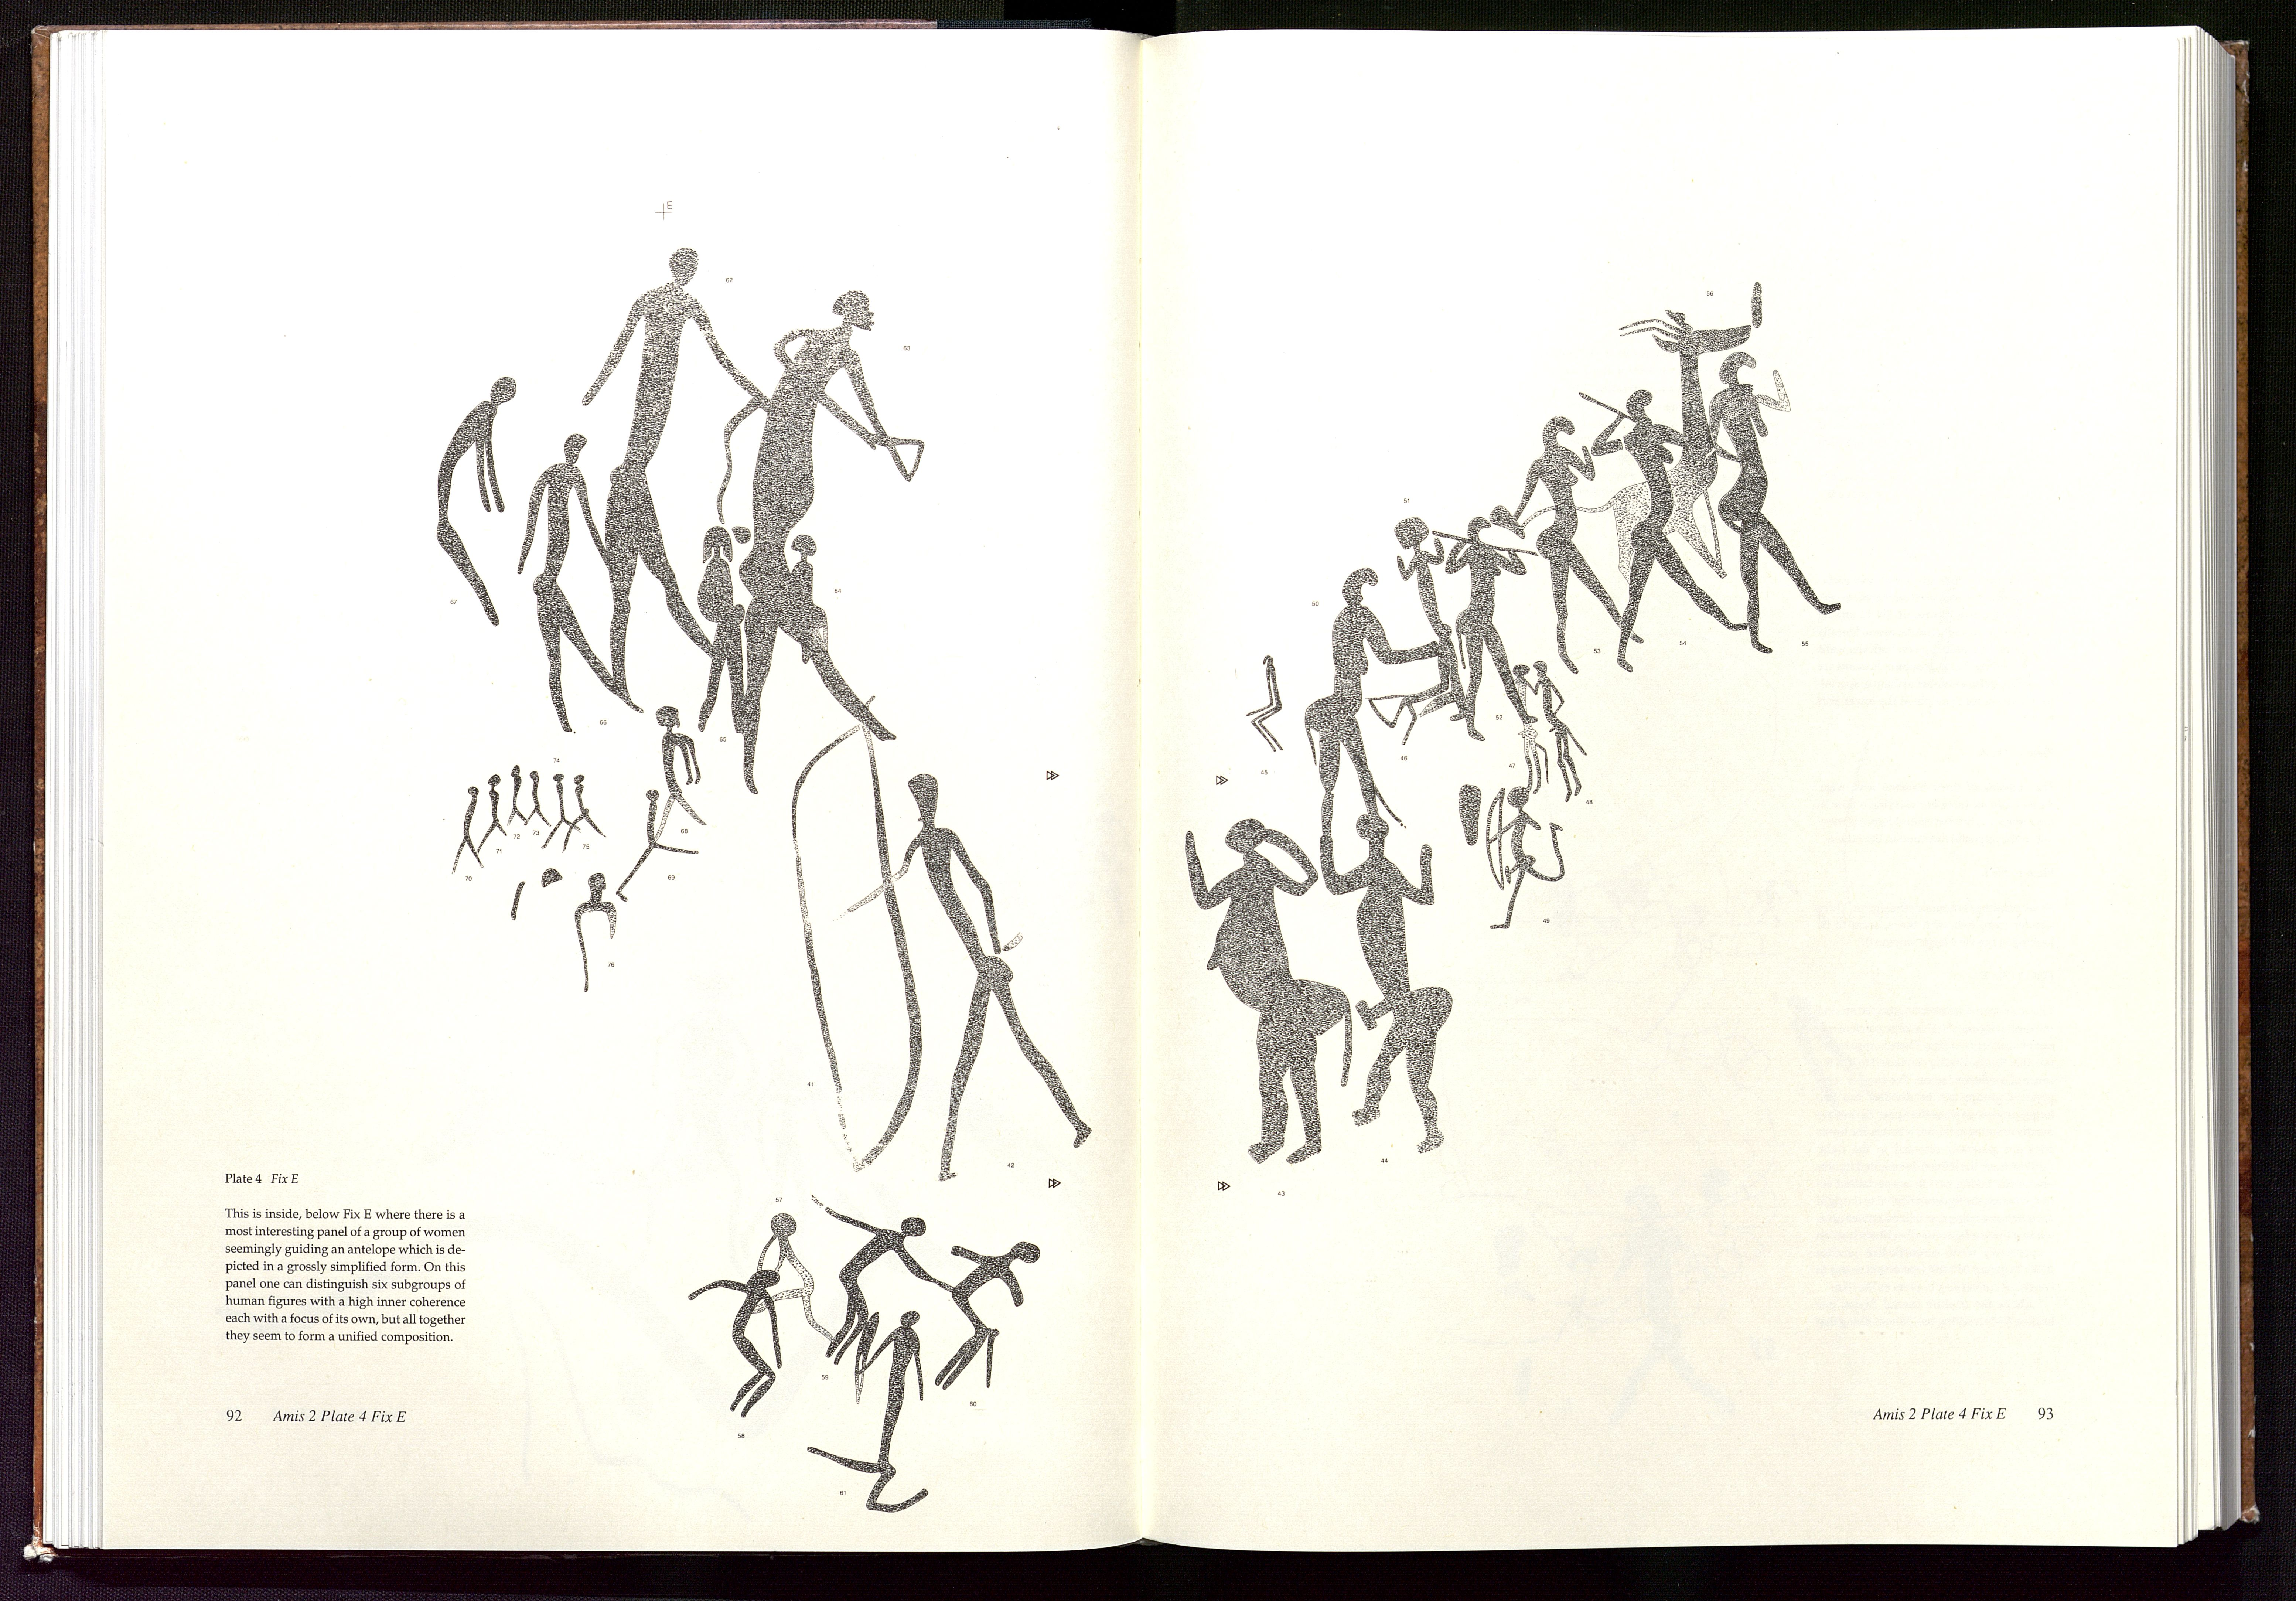animal: (1519, 310, 1753, 586)
human: (791, 696, 1093, 1181), (738, 291, 923, 796), (580, 246, 771, 716), (1185, 820, 1354, 1165), (1577, 390, 1748, 672), (1319, 815, 1454, 1154), (1708, 352, 1845, 653), (1303, 567, 1440, 829), (1512, 416, 1643, 675), (517, 434, 623, 732), (811, 1195, 958, 1365), (1434, 516, 1540, 742), (1391, 520, 1484, 745), (435, 377, 518, 626), (934, 1242, 1041, 1391), (687, 1269, 782, 1418), (750, 1214, 835, 1354), (1485, 784, 1563, 930), (697, 526, 751, 737), (856, 1312, 926, 1463), (612, 791, 699, 903), (788, 532, 848, 665), (1533, 660, 1590, 802), (652, 706, 706, 842), (1508, 665, 1550, 794), (1245, 655, 1286, 752), (562, 775, 605, 853), (541, 775, 580, 850), (450, 785, 484, 875), (477, 774, 506, 858), (522, 770, 550, 827), (505, 764, 528, 830)
